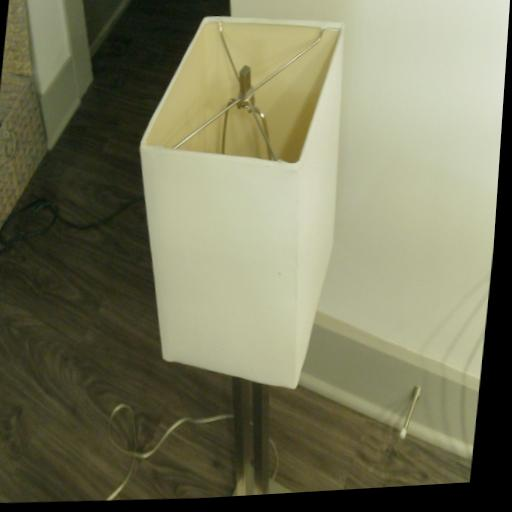lamp: (104, 6, 356, 504)
